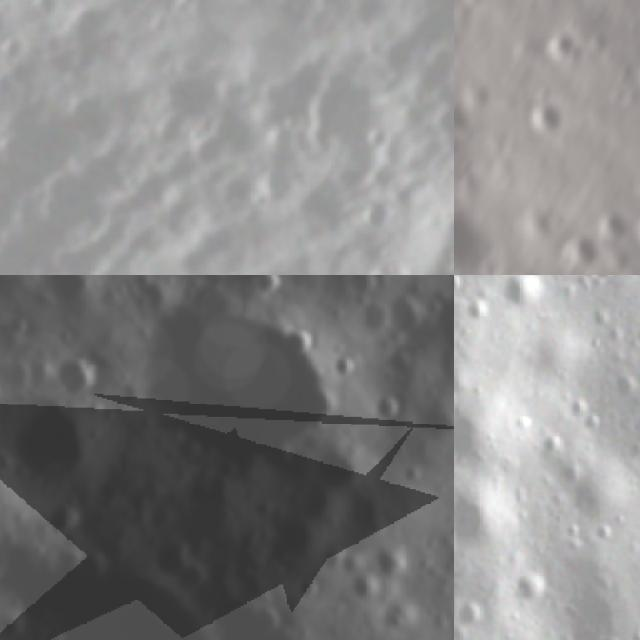crater: (107, 275, 364, 498), (268, 53, 428, 213), (0, 379, 142, 511), (50, 74, 140, 166), (454, 184, 520, 275), (257, 503, 328, 572), (26, 275, 120, 322), (416, 275, 454, 391), (50, 0, 124, 59), (520, 86, 586, 152), (349, 182, 413, 248), (534, 17, 596, 80), (338, 481, 393, 545), (550, 223, 613, 275), (454, 488, 502, 554), (50, 350, 104, 402), (454, 405, 499, 466), (142, 106, 194, 157), (154, 539, 205, 590), (350, 290, 400, 342), (586, 202, 636, 250), (454, 91, 489, 159), (0, 24, 40, 76), (502, 275, 550, 314), (371, 548, 414, 589), (619, 49, 640, 118), (349, 567, 387, 605), (250, 601, 286, 637), (370, 390, 404, 424), (330, 347, 361, 381), (552, 0, 614, 14), (475, 0, 540, 13), (249, 275, 289, 296)
